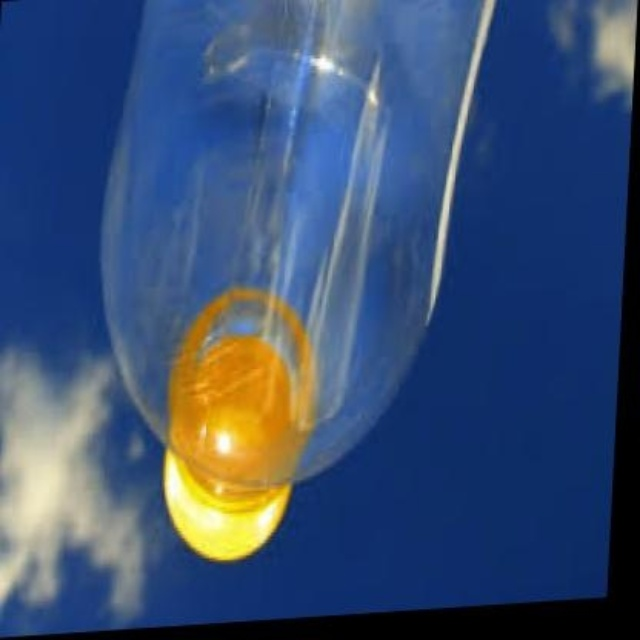trash: (102, 0, 494, 558)
